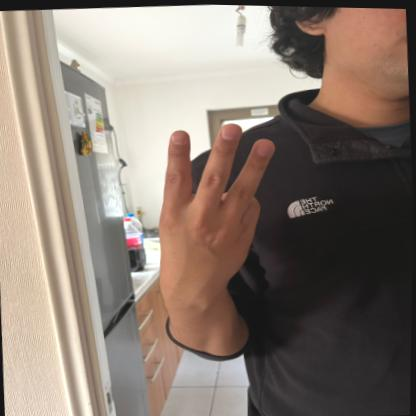W: (143, 114, 286, 296)
